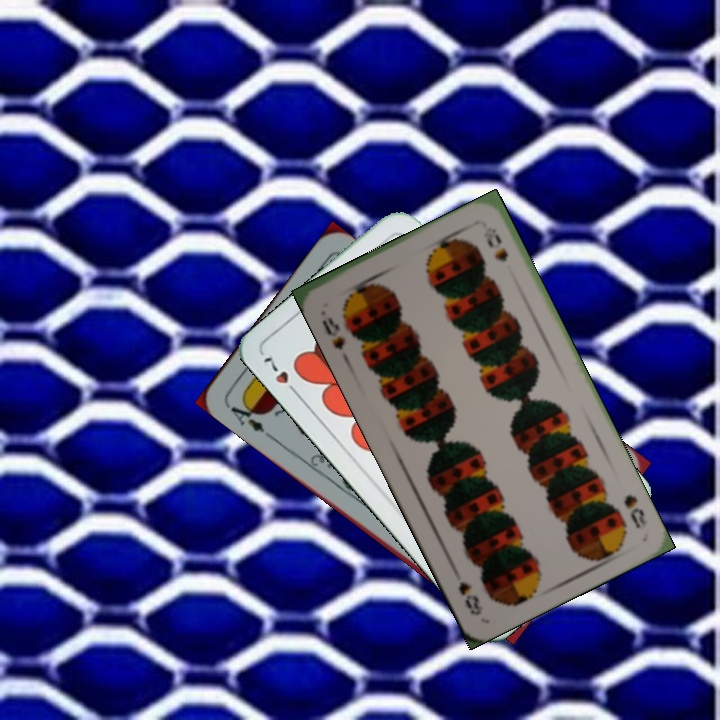EA: (223, 396, 268, 436)
H7: (259, 352, 302, 400)
S8: (317, 312, 348, 353), (619, 490, 649, 531)
